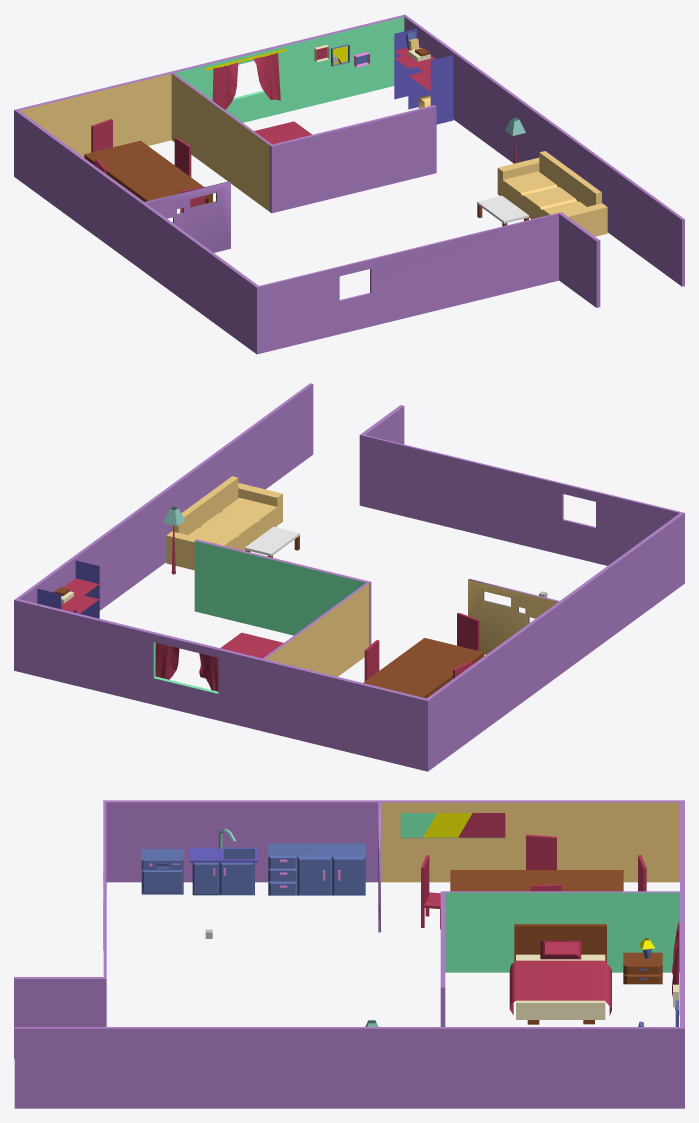
Rendered from house3.obj.
The picture shows the model from 3 angles, top to bottom: view 1: azimuth 30°, elevation 25°; view 2: azimuth 150°, elevation 25°; view 3: azimuth 270°, elevation 25°; orthographic projection. The views are drawn at different scales.
Parts seen in each view (by area): view 1: house2; view 2: house2; view 3: house2.
Part boxes in pixels (x1,y1,x2,y2): house2: (14,14,684,354); house2: (14,383,684,771); house2: (14,800,684,1108).
Bounding box in the file's own units: 153 × 26.41 × 189.
